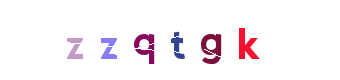G: (142, 0, 222, 80)
K: (205, 0, 285, 80)
Q: (129, 0, 209, 80)
T: (137, 0, 217, 80)
Z: (70, 0, 150, 80), (75, 0, 155, 80)
